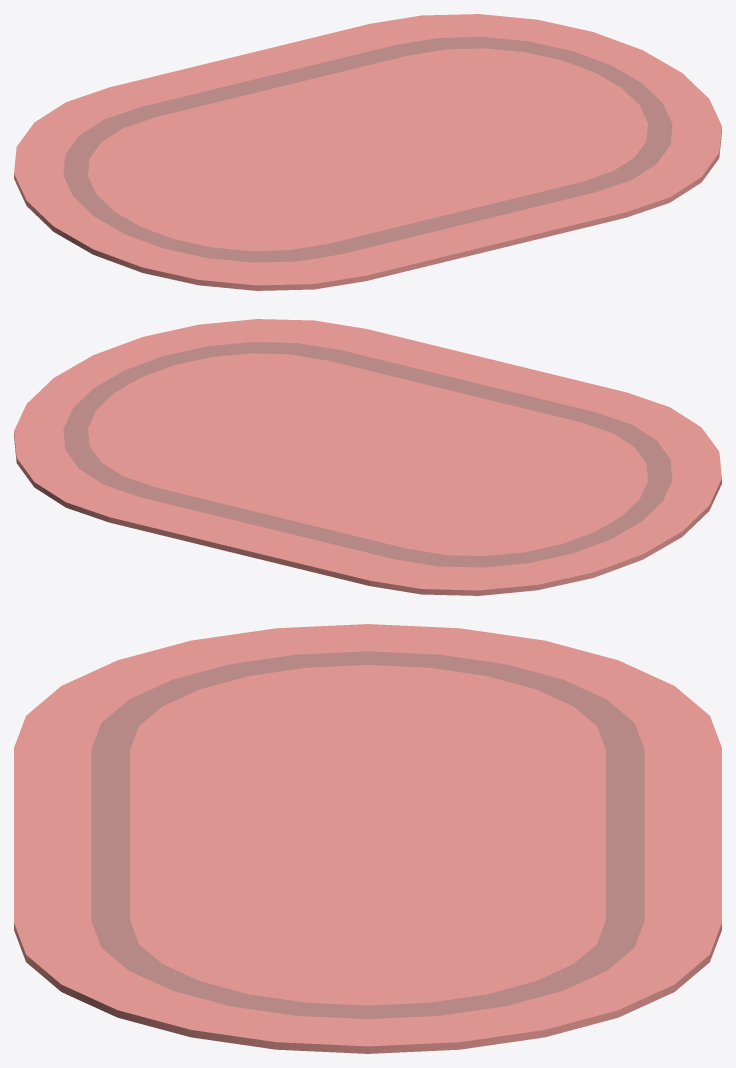
The model's file is kk-rugRounded.glb.
3 views of the same model, one above another, from view 1: azimuth 30°, elevation 25°; view 2: azimuth 150°, elevation 25°; view 3: azimuth 270°, elevation 25° (orthographic). The views are drawn at different scales.
Parts seen in each view (by area): view 1: rugRounded(Clone); view 2: rugRounded(Clone); view 3: rugRounded(Clone).
Boxes of the visible parts, x1,y1,x2,y2 form: rugRounded(Clone): (14, 14, 721, 290); rugRounded(Clone): (14, 319, 721, 595); rugRounded(Clone): (14, 624, 721, 1053).
Bounding box in the file's own units: 1 × 0.0083 × 0.7083.
